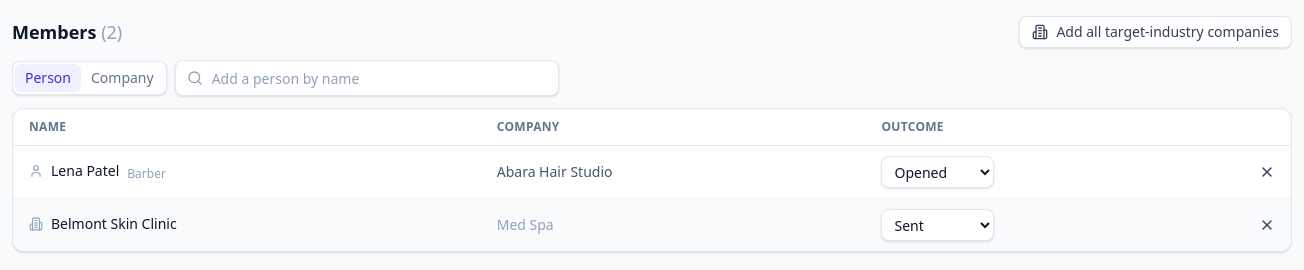
it: CampaignMembersManager — editor › member picker › shows an error instead of failing silently when search throws
Type "Lena" into the field with placeholder "Add a person by name" at (367, 78), box top-left (175, 60), bottom-right (559, 96)
Wait 250 ms
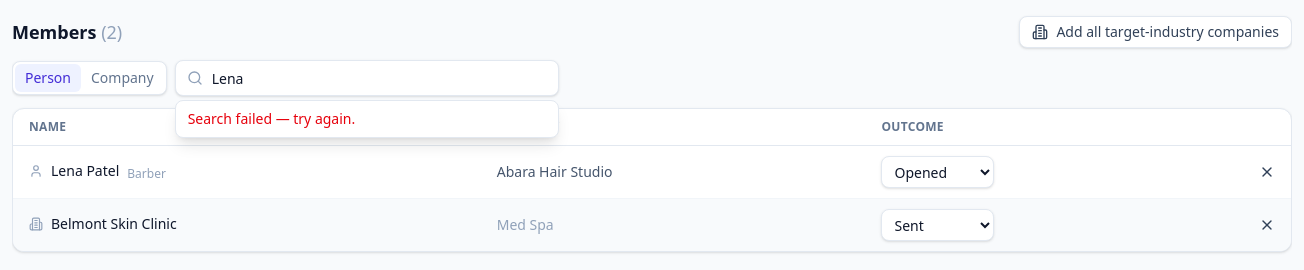
Check: the message reads "Search failed — try again.", box top-left (188, 109), bottom-right (355, 128)
